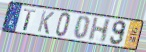0: (55, 12, 73, 39), (73, 15, 91, 41)
9: (108, 20, 127, 47)
H: (87, 17, 113, 44)
K: (36, 10, 56, 36)
T: (22, 7, 38, 32)
